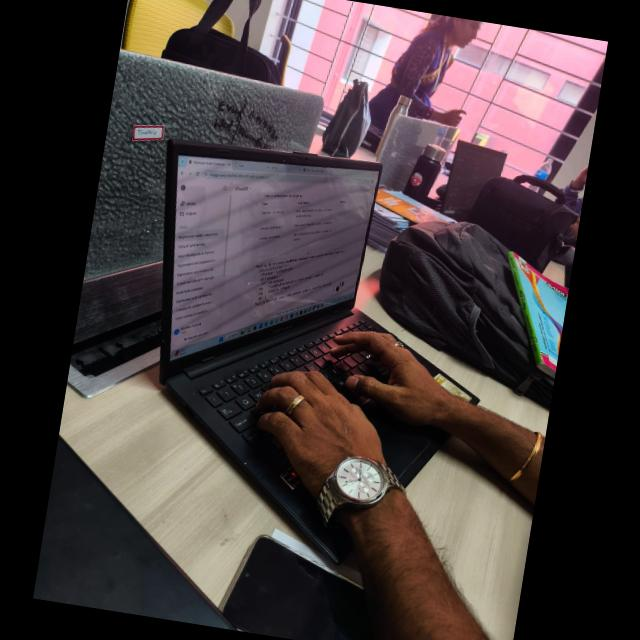laptop: (93, 113, 474, 564)
